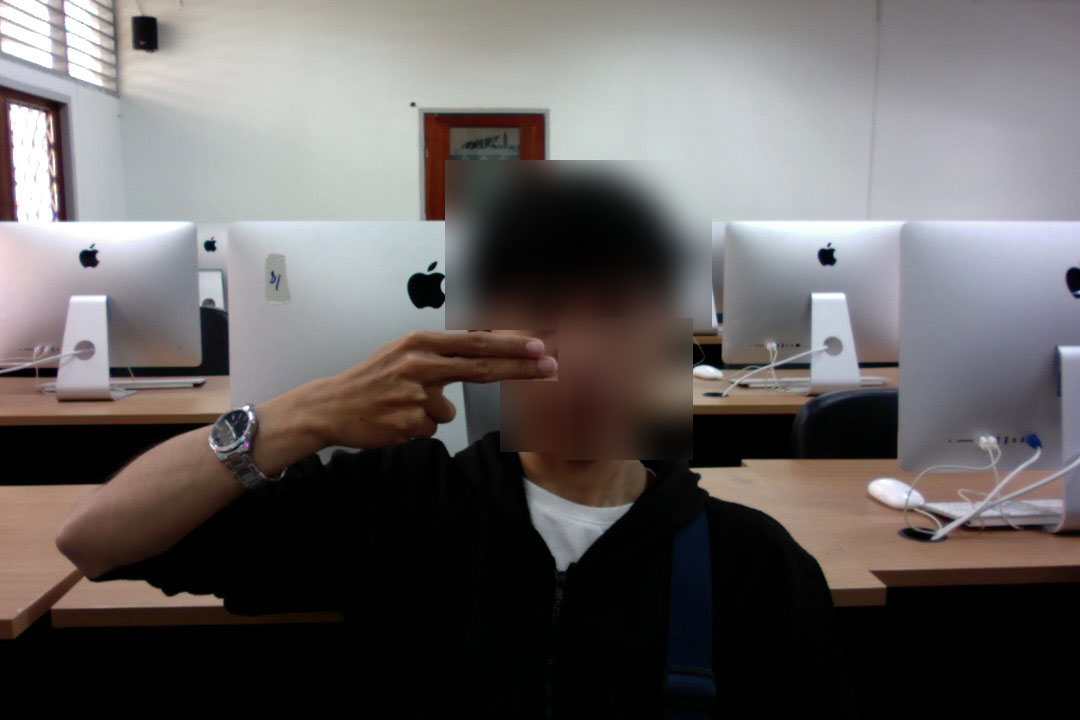hor: (321, 327, 562, 455)
